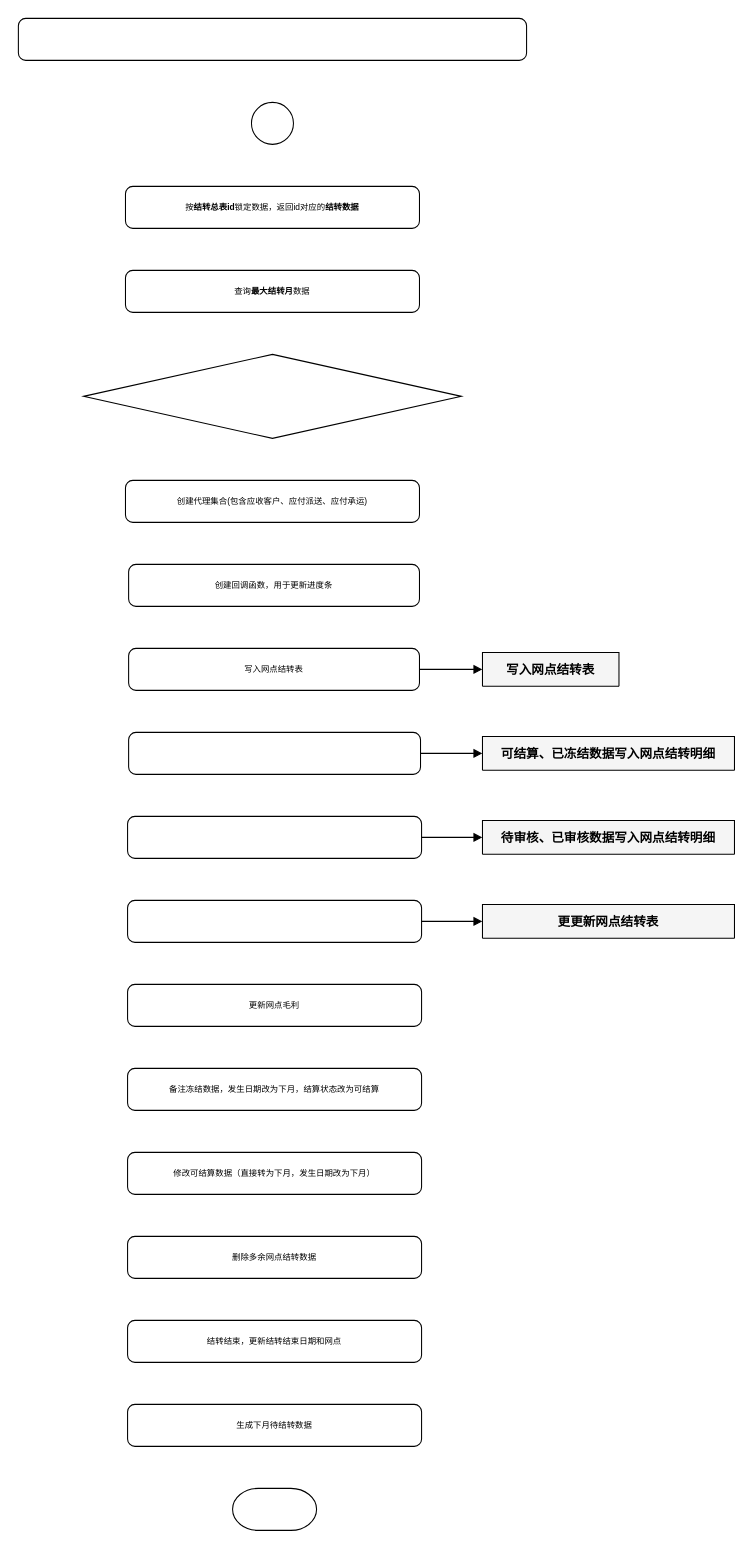
This 753x1549 diagram has some shape labels left out. Each missing label, with the centre of its shape:
null != 最大结转月&& 结转数据.结转月份!= （ 最大结转月份 + 1）: (x=271, y=395)
参数（Integer 结转总表id , Integer 租户id , String 修改人 , String 任务id ,int 任务总数 ）: (x=272, y=38)
开始: (x=271, y=122)
循环代理集合写入网点结转明细（可结算、已冻结数据）: (x=274, y=752)
循环代理集合写入网点结转明细（待审核、已审核数据）: (x=274, y=836)
循环代理集合更新网点结转数据（将网点结转明细数据更新到网点结转表）: (x=274, y=920)
结束: (x=274, y=1508)
